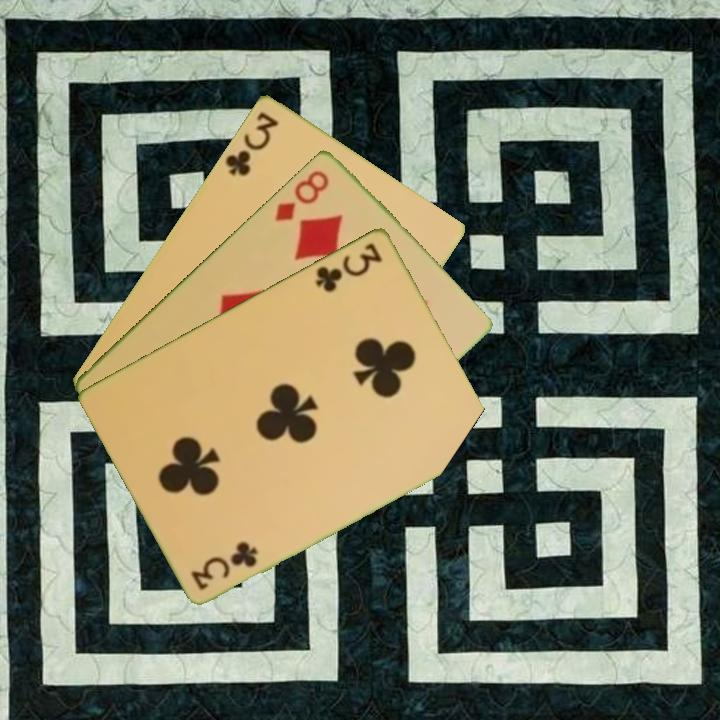3c: (221, 107, 281, 179), (312, 238, 386, 295), (187, 538, 262, 592)
8d: (271, 166, 332, 224)
